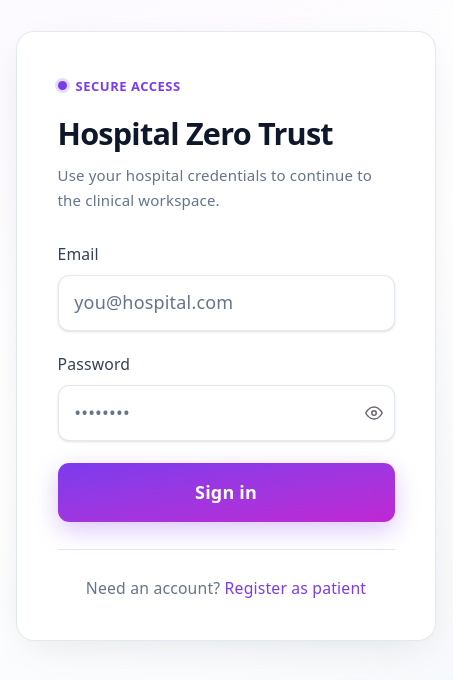
it: LoginPage › shows validation error if password is empty on submit
The width and height of the screenshot is (453, 680).
Type "nurse@hospital.com" into the field labelled "Email". click: (226, 303)
box: [58,275,394,331]
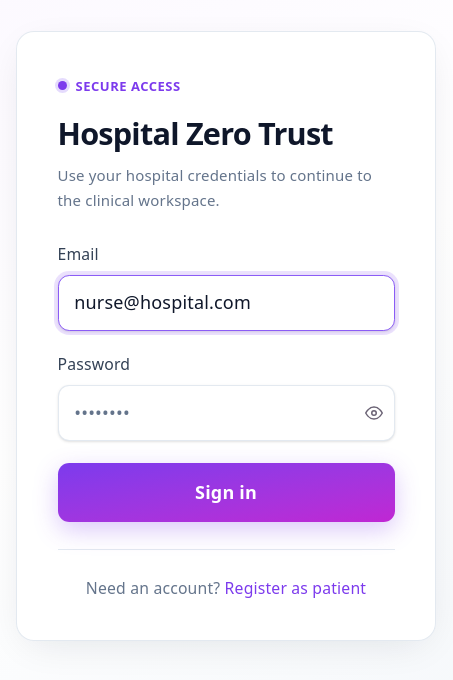
Click the button "Sign in". click: (226, 493)
box: [58,464,394,522]
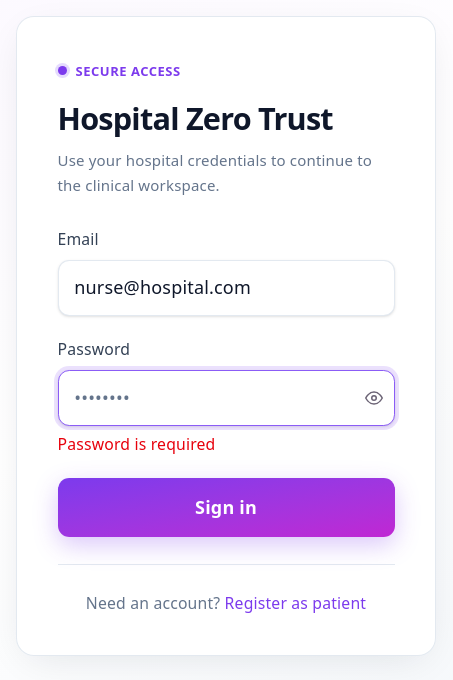
Check: the text "Password is required" is shown, box [58,433,216,455]
